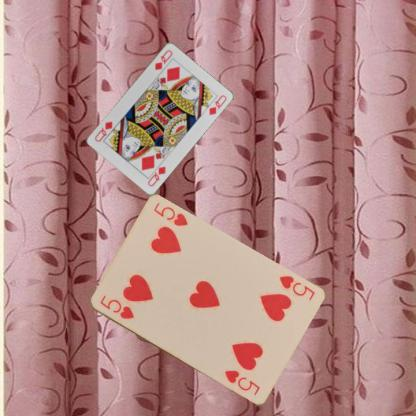5h: (276, 272, 316, 302), (97, 292, 135, 321)
Qd: (145, 159, 167, 188), (152, 47, 174, 71)
